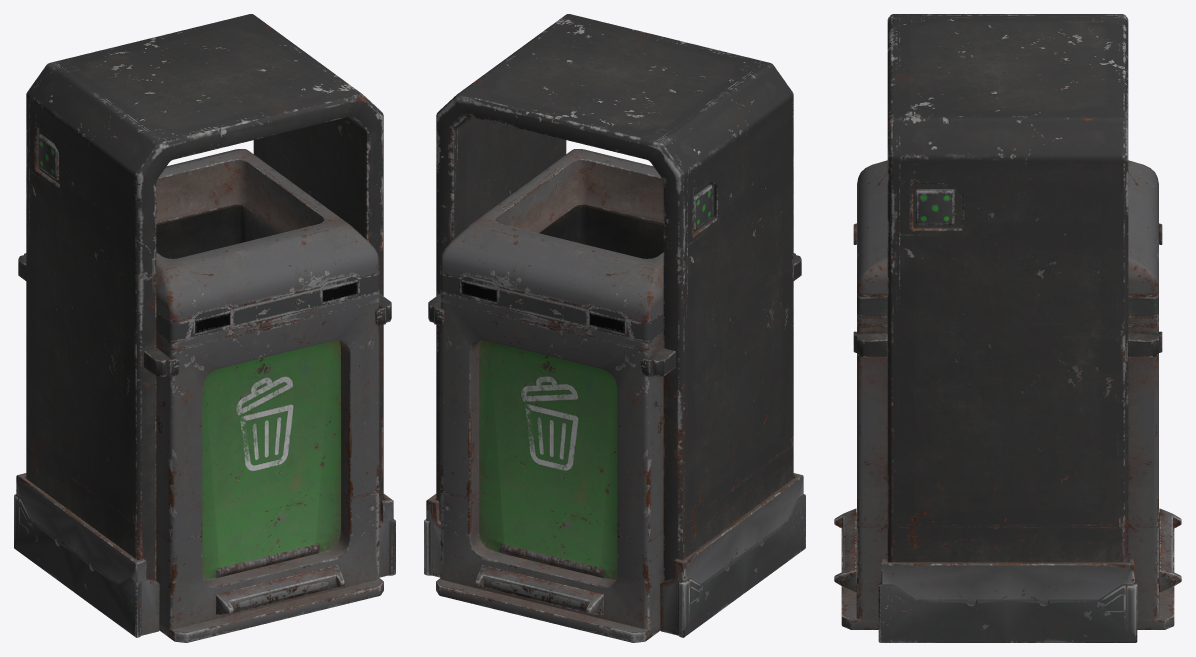
The model's file is TrashCan_Metal.fbx.
3 views of the same model, side by side, from view 1: azimuth 30°, elevation 25°; view 2: azimuth 150°, elevation 25°; view 3: azimuth 270°, elevation 25° (orthographic). The views are drawn at different scales.
Visible parts, largest first — view 1: TrashCan_Metal; view 2: TrashCan_Metal; view 3: TrashCan_Metal.
Boxes of the visible parts, x1,y1,x2,y2 form: TrashCan_Metal: (14, 14, 395, 642); TrashCan_Metal: (424, 14, 805, 642); TrashCan_Metal: (834, 14, 1181, 642).
Size of the model in its own units: 154 by 273 by 168.
Materials: 1 (1 with a texture image).
